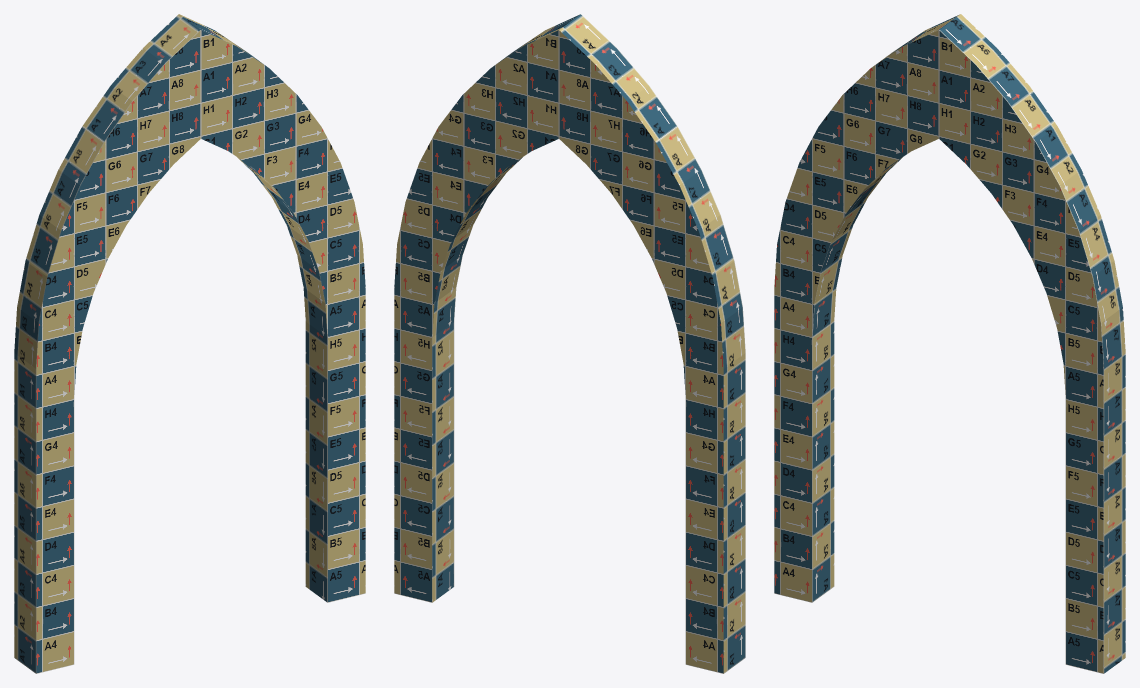
Rendered from ARCH_Point.fbx.
The picture shows the model from 3 angles, left to right: view 1: azimuth 30°, elevation 25°; view 2: azimuth 150°, elevation 25°; view 3: azimuth 330°, elevation 25°; orthographic projection.
Parts seen in each view (by area): view 1: ARCH_Point; view 2: ARCH_Point; view 3: ARCH_Point.
Part boxes in pixels (bbox=[...]): ARCH_Point: bbox=[14, 14, 365, 673]; ARCH_Point: bbox=[394, 14, 745, 673]; ARCH_Point: bbox=[774, 14, 1125, 673].
Size of the model in its own units: 260 by 455 by 30.
1 material, 1 textured.
